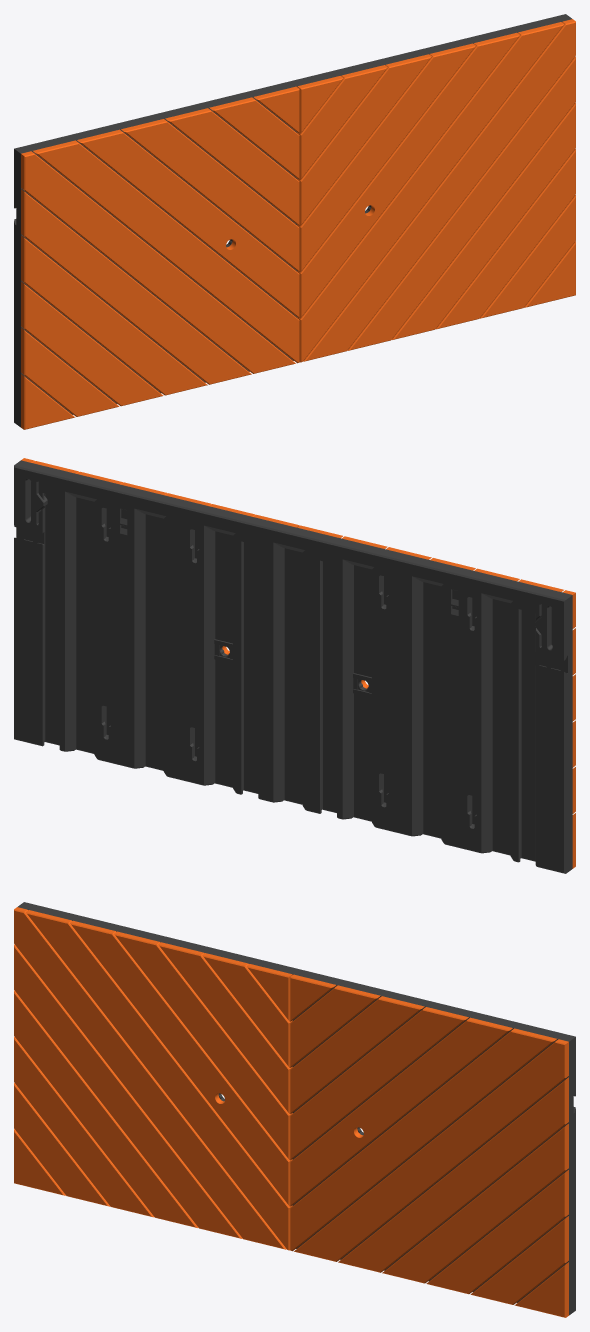
Rendered from Faceplate_Chevron_2W-15H.lib.glb.
The picture shows the model from 3 angles, top to bottom: view 1: azimuth 30°, elevation 25°; view 2: azimuth 150°, elevation 25°; view 3: azimuth 330°, elevation 25°; orthographic projection.
Visible parts, largest first — view 1: Faceplate_Chevron_2W-15H; view 2: Faceplate_Chevron_2W-15H; view 3: Faceplate_Chevron_2W-15H.
Boxes of the visible parts, <box> form: Faceplate_Chevron_2W-15H: <box>14,14,575,429</box>; Faceplate_Chevron_2W-15H: <box>14,458,575,873</box>; Faceplate_Chevron_2W-15H: <box>14,902,575,1317</box>.
Size of the model in its own units: 175 by 83 by 6.2.
